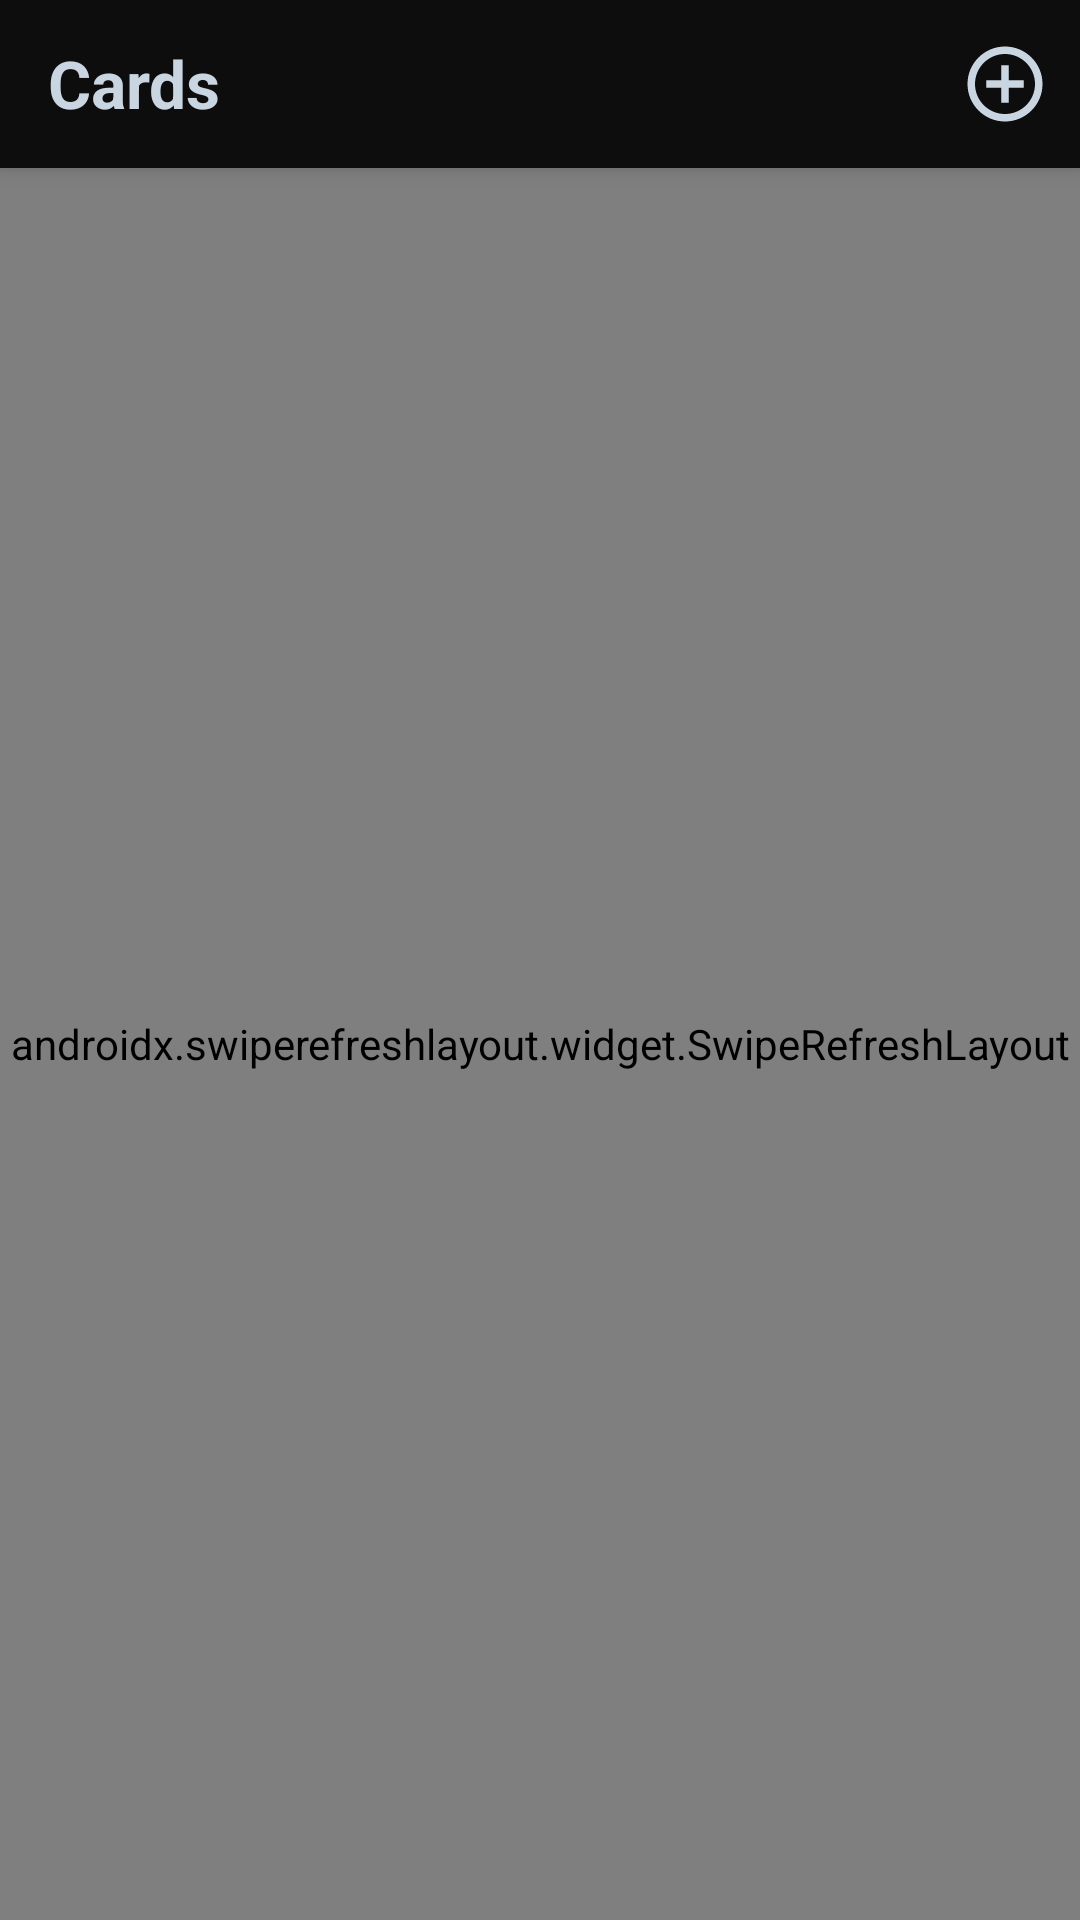

Screen size 1080px×1920px. Icon name, then its box in pixels as [x1,y1,x2,y2]:
add circle: [967,46,1043,122]
